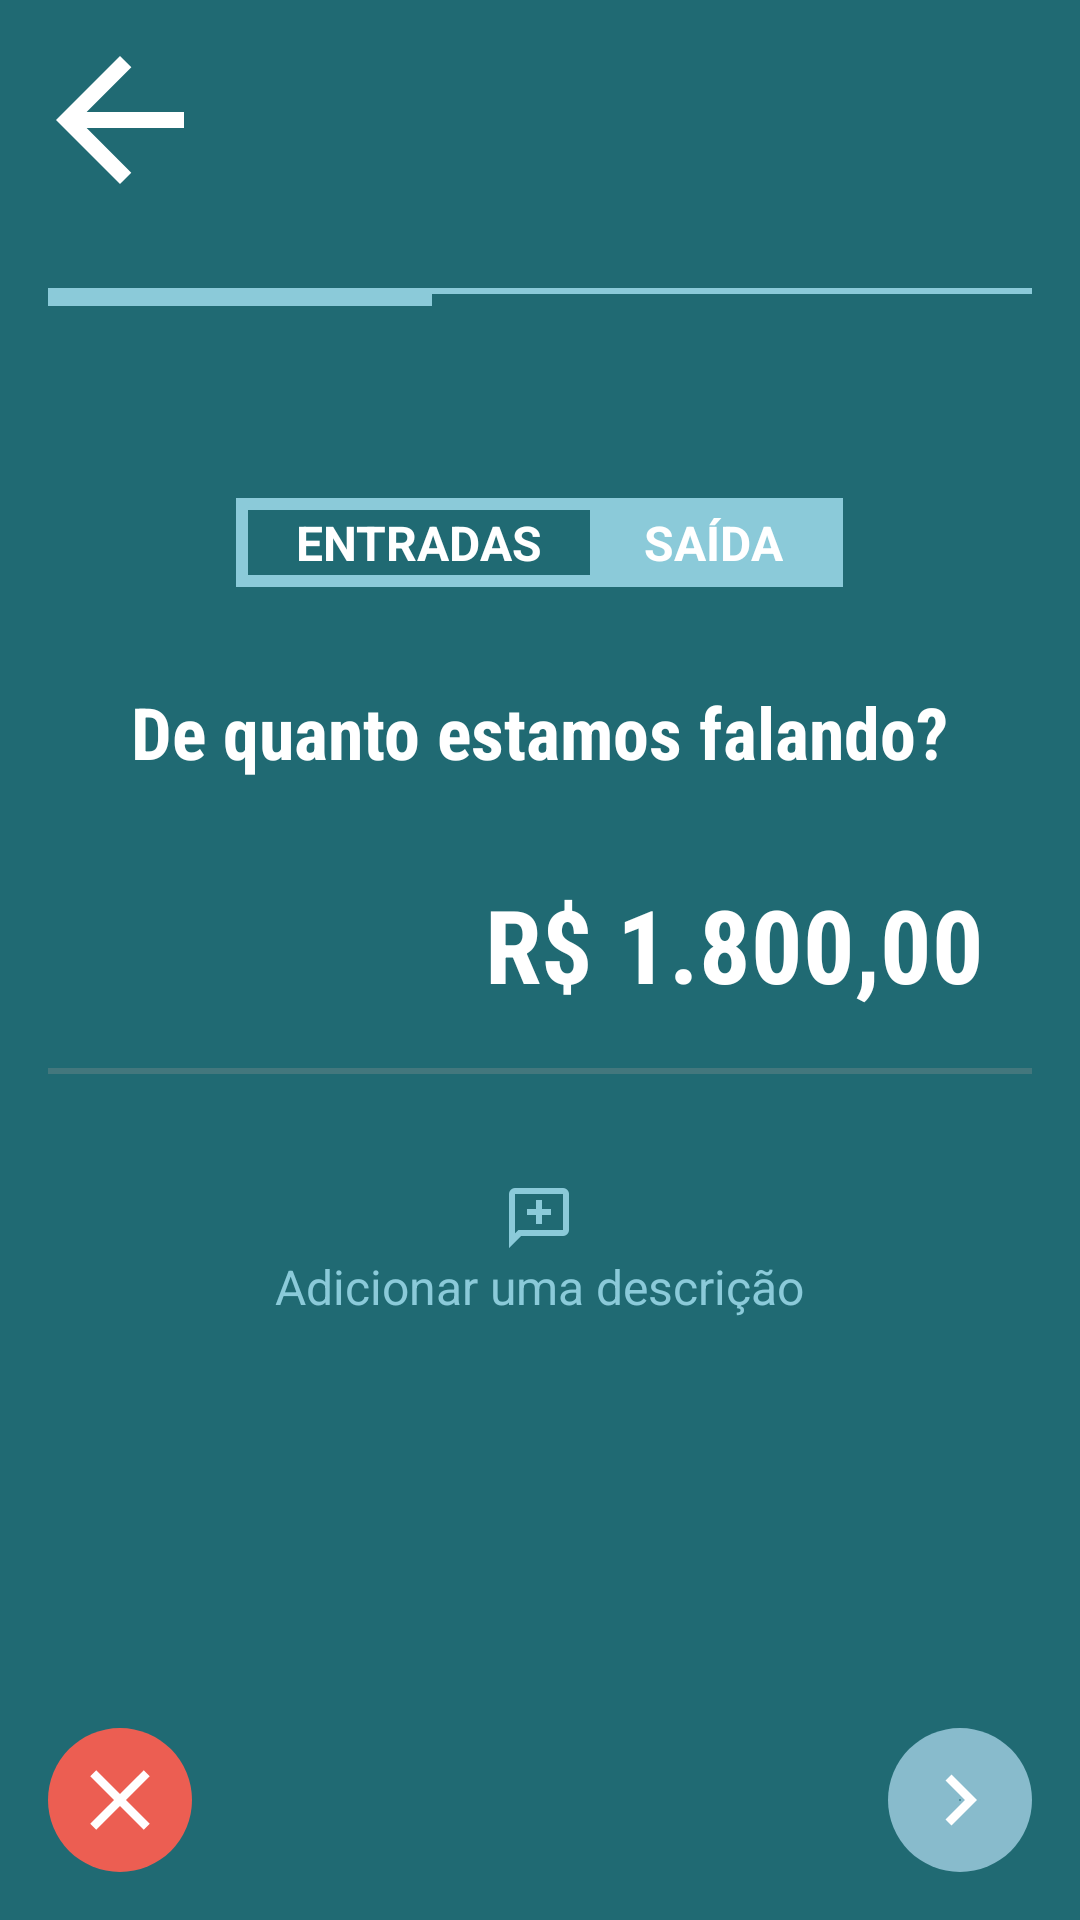

Icon bounding boxes for this 1080x1920 phone screenshot, format (x1, y1, x2, y2):
add comentário: (509, 1188, 569, 1248)
Ao acionado, finaliza a view: (48, 1728, 192, 1872)
arrow back: (56, 56, 184, 184)
right: (888, 1728, 1032, 1872)
